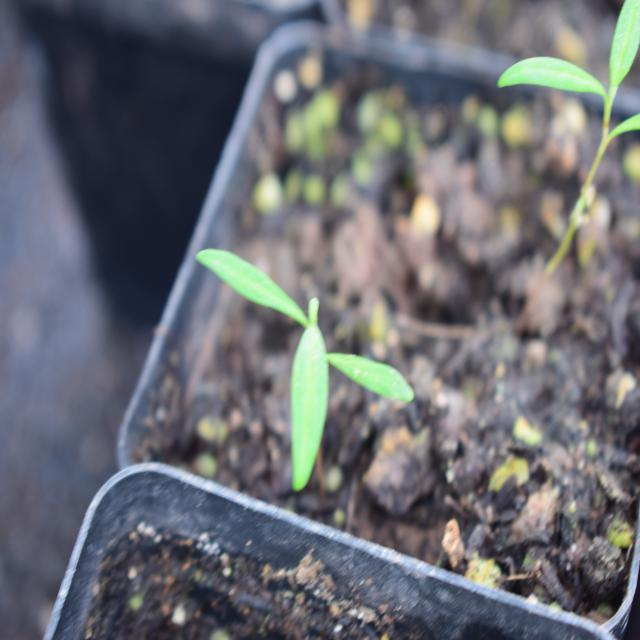white_smart_weed: (211, 232, 438, 506)
